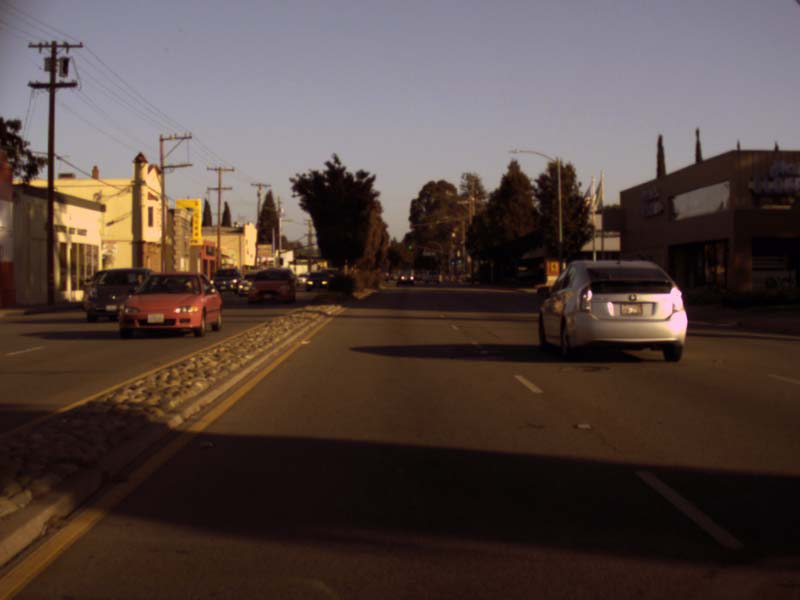Green: (406, 236, 412, 249)
